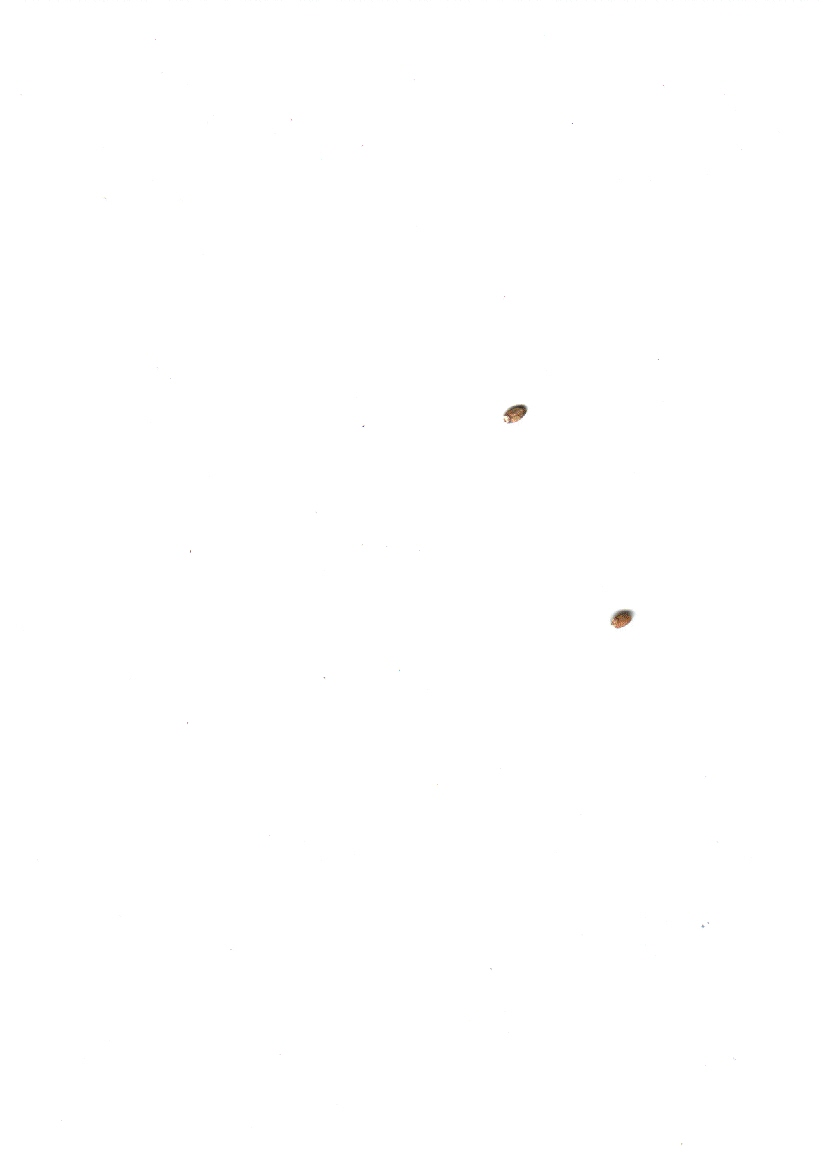grains: (490, 399, 540, 441), (601, 597, 644, 642)
